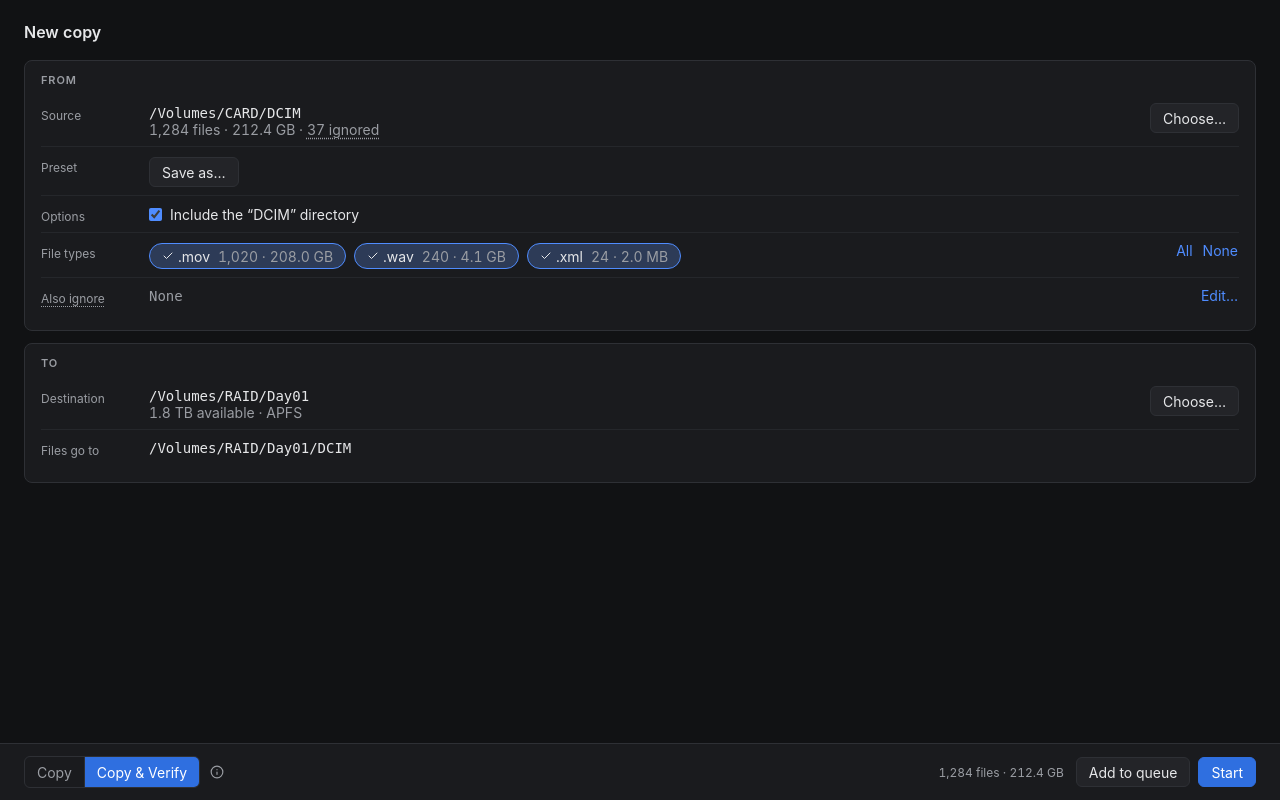
it: Setup › Add to queue saves the setup, says so, and clears the source
What coordinates should you click on to do the following:
click the button "Add to queue"
I would click on:
 (1133, 772)
Its box is [1076,757,1190,787].
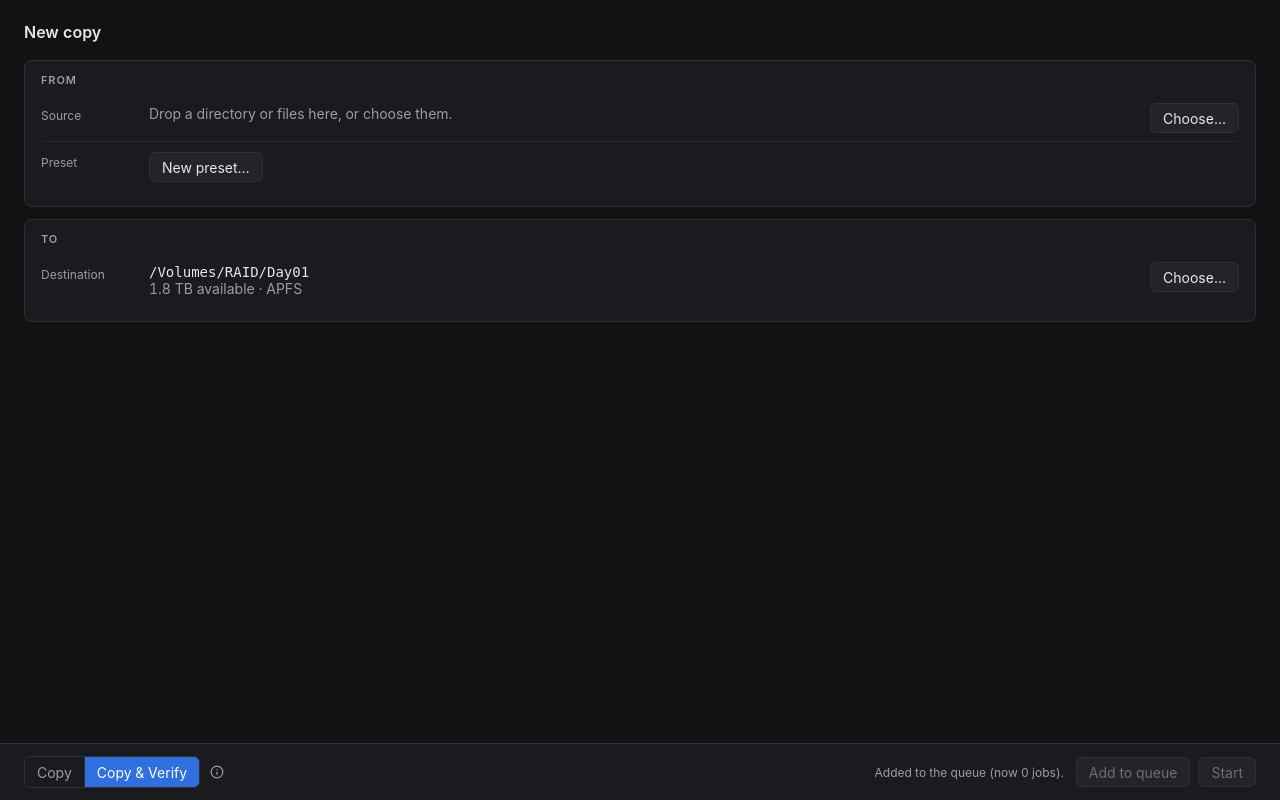
Now the text "Added to the queue (now 0 jobs)." is shown, box [874,764,1064,780]
